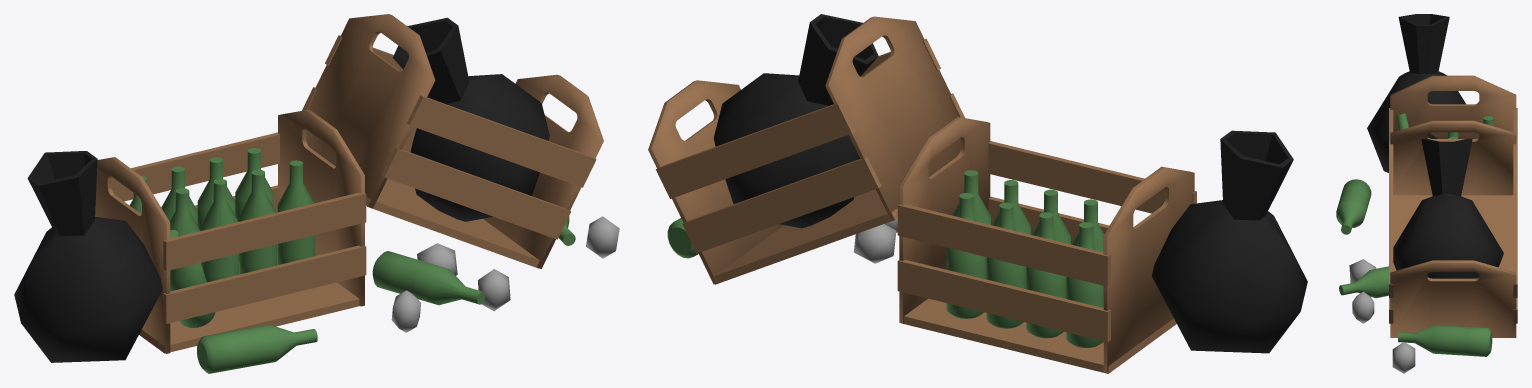
Rendered from garbage.glb.
3 renders of one model, left to right at view 1: azimuth 30°, elevation 25°; view 2: azimuth 150°, elevation 25°; view 3: azimuth 270°, elevation 25°, orthographic. The views are drawn at different scales.
Visible parts, largest first — view 1: GeoSphere005, ChamferBox005, GeoSphere001, ChamferBox002, Box003, Box002, Box007, Box008, ChamferBox004, ChamferBox003, Box001, Box006 (+15 smaller); view 2: GeoSphere005, ChamferBox005, GeoSphere001, ChamferBox003, Box004, Box005, ChamferBox002, ChamferBox004, Box010, Box009, Box001, Box003 (+12 smaller); view 3: GeoSphere001, ChamferBox004, ChamferBox005, ChamferBox003, GeoSphere005, Box006, Cylinder011, Cylinder012, Cylinder010, Box010, Box008, GeoSphere006 (+3 smaller).
Part boxes in pixels (x1,y1,x2,y2): GeoSphere005: [14, 151, 162, 362]; ChamferBox005: [306, 14, 435, 208]; GeoSphere001: [393, 17, 549, 221]; ChamferBox002: [278, 109, 364, 306]; Box003: [163, 192, 366, 270]; Box002: [163, 245, 366, 323]; Box007: [381, 147, 571, 239]; Box008: [407, 95, 596, 187]; ChamferBox004: [483, 74, 603, 268]; ChamferBox003: [95, 157, 170, 353]; Box001: [139, 244, 359, 353]; Box006: [366, 179, 539, 268]; GeoSphere005: [1151, 130, 1307, 353]; ChamferBox005: [825, 16, 960, 220]; GeoSphere001: [713, 14, 878, 228]; ChamferBox003: [1103, 166, 1194, 373]; Box004: [897, 204, 1110, 286]; Box005: [897, 260, 1110, 342]; ChamferBox002: [899, 117, 990, 323]; ChamferBox004: [648, 80, 783, 284]; Box010: [656, 102, 854, 198]; Box009: [682, 156, 881, 253]; Box001: [901, 298, 1176, 373]; Box003: [988, 141, 1196, 213]; GeoSphere001: [1393, 138, 1503, 278]; ChamferBox004: [1390, 260, 1516, 337]; ChamferBox005: [1390, 120, 1516, 195]; ChamferBox003: [1390, 75, 1516, 138]; GeoSphere005: [1367, 14, 1465, 172]; Box006: [1393, 195, 1513, 271]; Cylinder011: [1398, 324, 1492, 356]; Cylinder012: [1336, 179, 1371, 234]; Cylinder010: [1339, 266, 1388, 298]; Box010: [1513, 140, 1517, 297]; Box008: [1389, 140, 1393, 297]; GeoSphere006: [1392, 342, 1415, 373].
Size of the model in its own units: 94.45 by 39 by 33.58.
